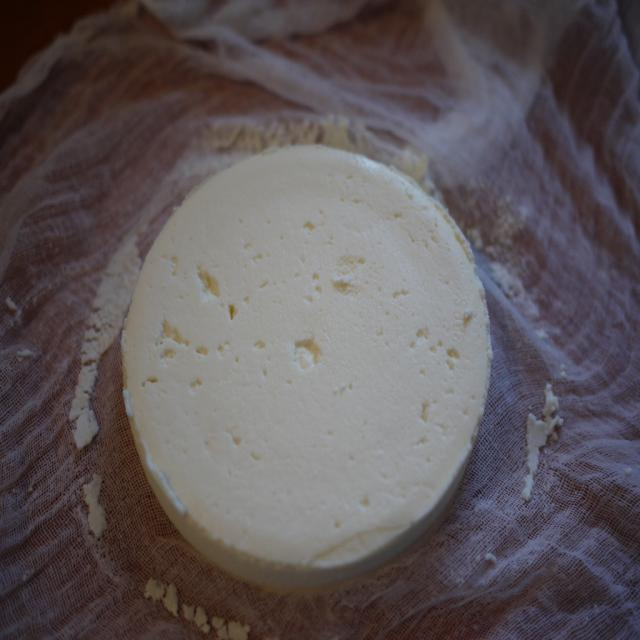Cheese: (118, 138, 496, 602)
